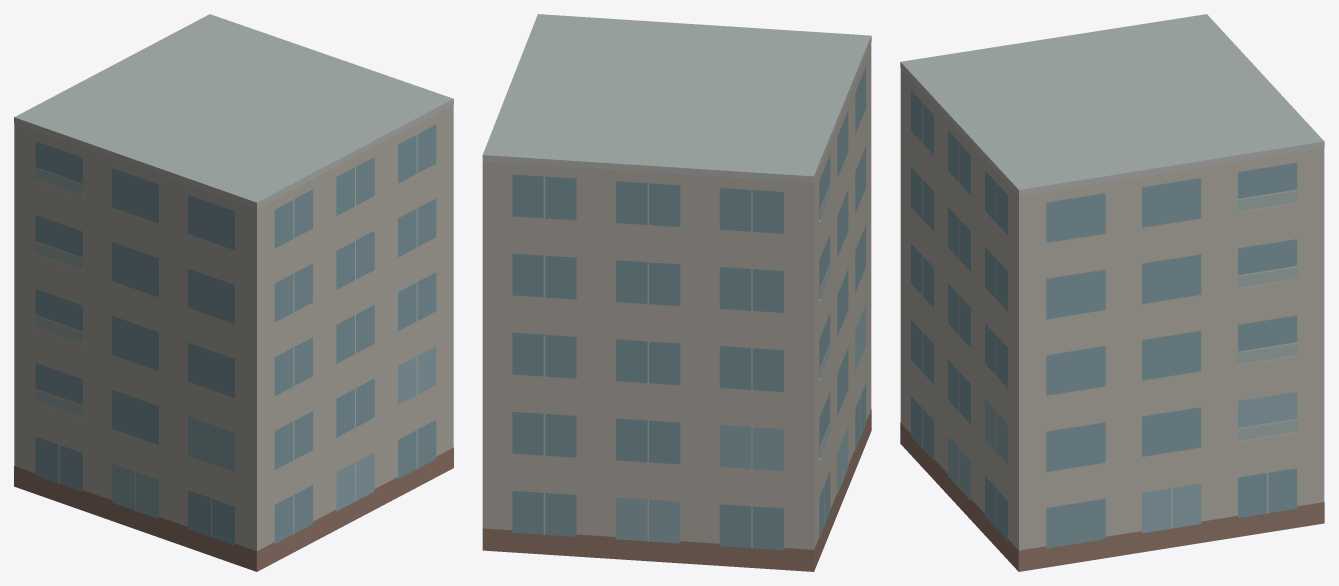
Rendered from survey-upis-32966419.glb.
3 renders of one model, left to right at view 1: azimuth 30°, elevation 25°; view 2: azimuth 150°, elevation 25°; view 3: azimuth 270°, elevation 25°, orthographic. The views are drawn at different scales.
Visible parts, largest first — view 1: survey-upis-32966419.tmp; view 2: survey-upis-32966419.tmp; view 3: survey-upis-32966419.tmp.
Part boxes in pixels (<box>): survey-upis-32966419.tmp: <box>14,14,453,571</box>; survey-upis-32966419.tmp: <box>482,14,871,571</box>; survey-upis-32966419.tmp: <box>900,14,1324,571</box>.
Size of the model in its own units: 14.88 by 15.05 by 15.15.
